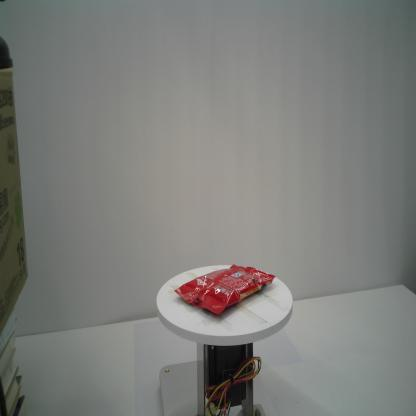Instant Drink: (173, 261, 276, 317)
